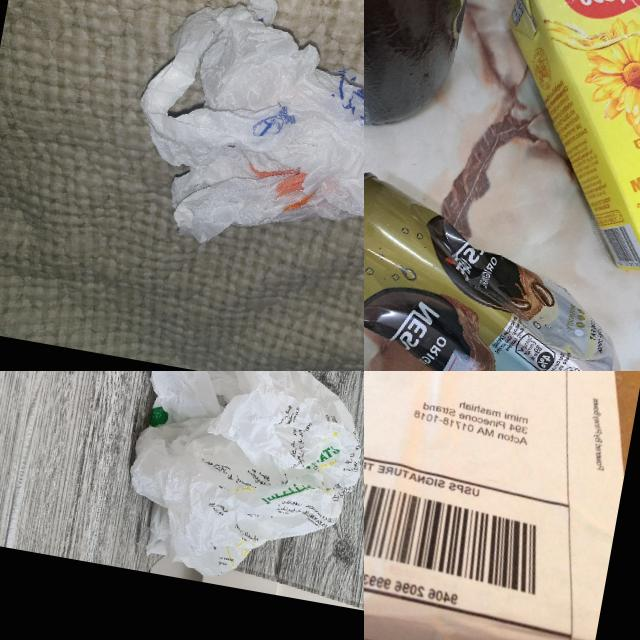caixinha: (469, 0, 640, 281), (547, 0, 640, 63), (639, 148, 640, 150)
lata: (364, 160, 640, 371), (364, 0, 480, 136)
papelão: (364, 371, 640, 640)
sacola plástica: (117, 0, 364, 278), (101, 371, 364, 596)
